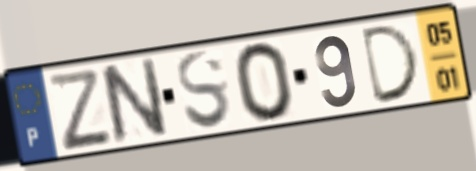9: (314, 33, 358, 109)
D: (359, 21, 424, 108)
N: (96, 54, 172, 148)
O: (231, 39, 297, 125)
S: (174, 48, 235, 133)
Z: (43, 67, 116, 154)
